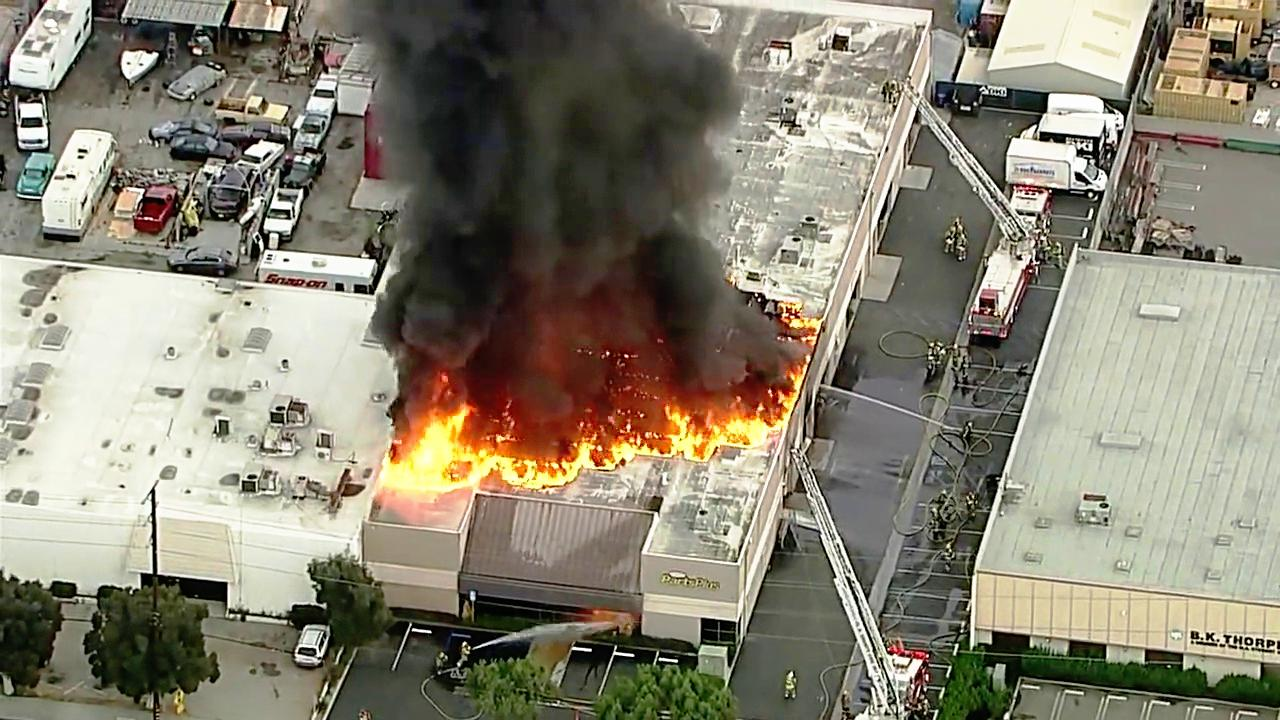fire: (390, 382, 470, 490), (667, 395, 770, 471)
smoke: (440, 17, 646, 334)
